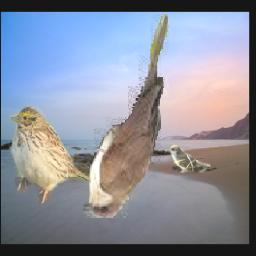Cuckoo: (81, 12, 169, 218), (166, 145, 210, 173)
Sparrow: (8, 103, 92, 203)
